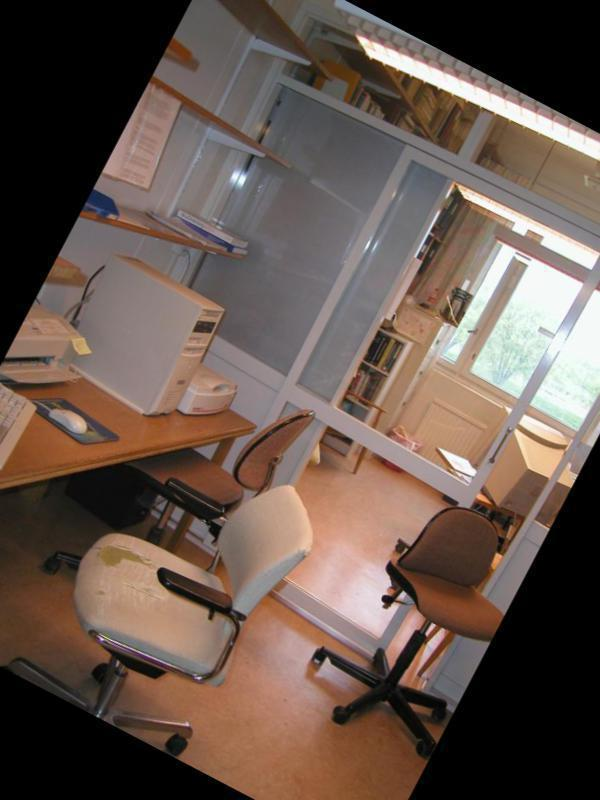Puerta: (222, 155, 600, 652)
